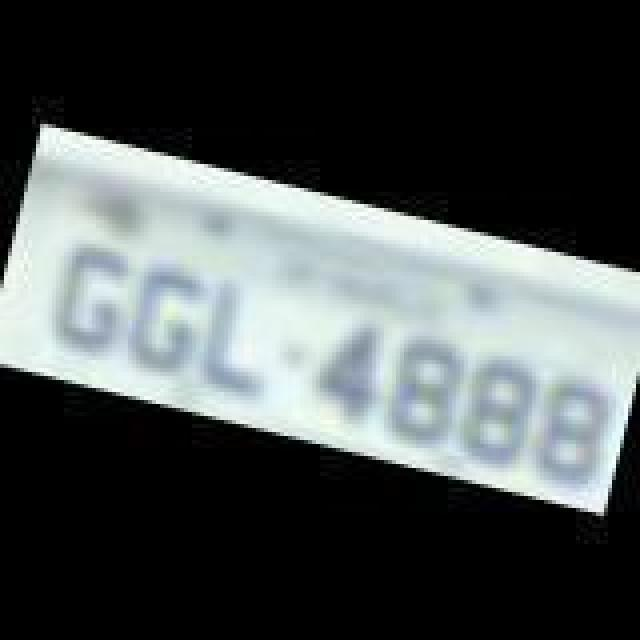4: (294, 306, 394, 430)
8: (522, 364, 622, 492), (450, 352, 542, 472), (380, 332, 468, 452)
G: (48, 236, 144, 364), (116, 256, 212, 384)
L: (188, 272, 292, 400)
